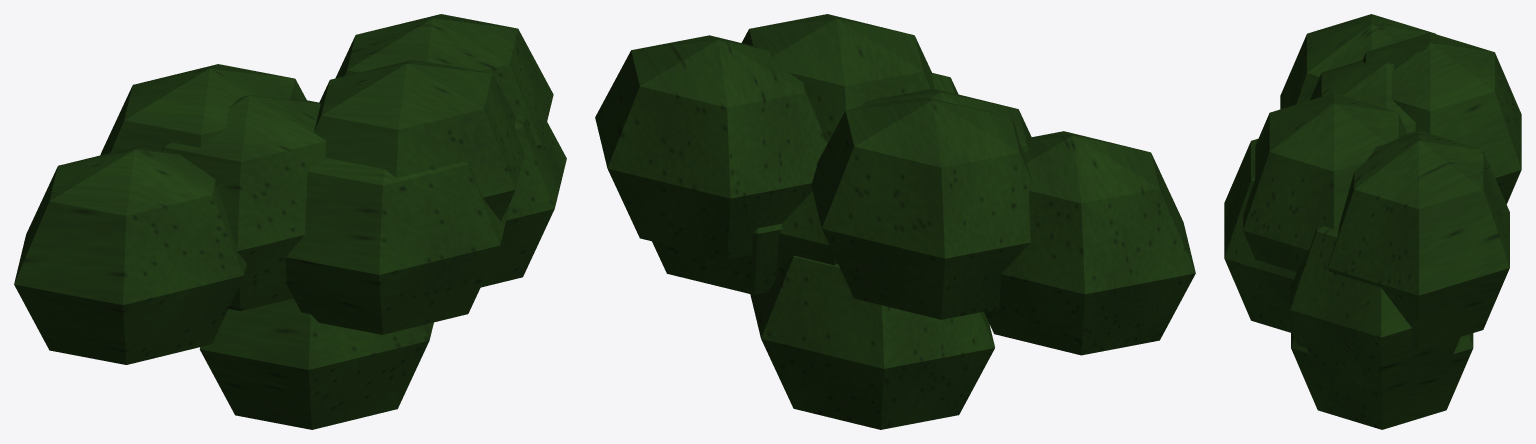
Rendered from PROP-1BA4EAB36F19_lod2.glb.
The picture shows the model from 3 angles, left to right: view 1: azimuth 30°, elevation 25°; view 2: azimuth 150°, elevation 25°; view 3: azimuth 270°, elevation 25°; orthographic projection. The views are drawn at different scales.
Visible parts, largest first — view 1: foliage.013; view 2: foliage.013; view 3: foliage.013.
Boxes of the visible parts, box(x1,y1,x2,y2) form: foliage.013: box(14, 14, 566, 429); foliage.013: box(595, 14, 1195, 429); foliage.013: box(1224, 14, 1521, 429).
Bounding box in the file's own units: 1.4 × 0.8664 × 0.6779.
Materials: 1 (1 with a texture image).
